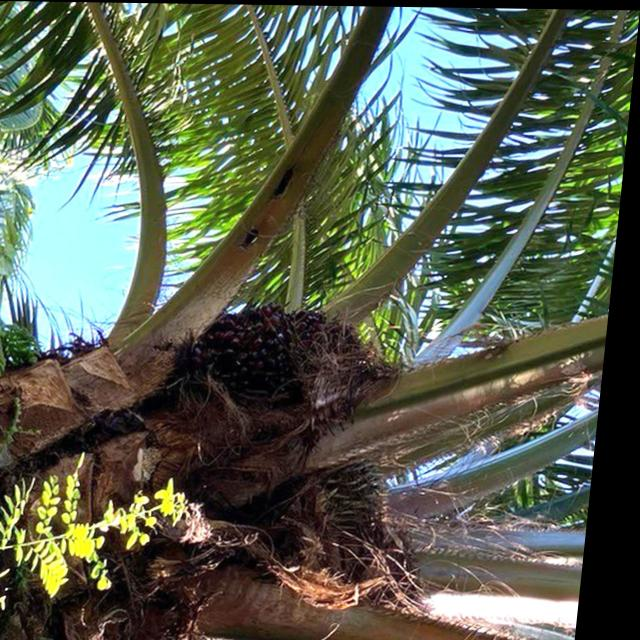ripe: (176, 287, 409, 422)
